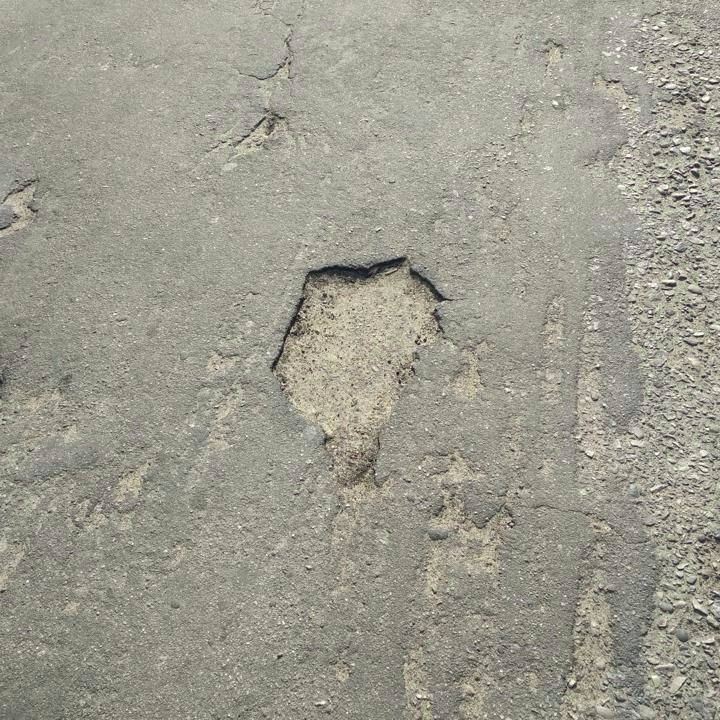pothole: (265, 250, 455, 481), (0, 177, 42, 238), (232, 110, 280, 155)
